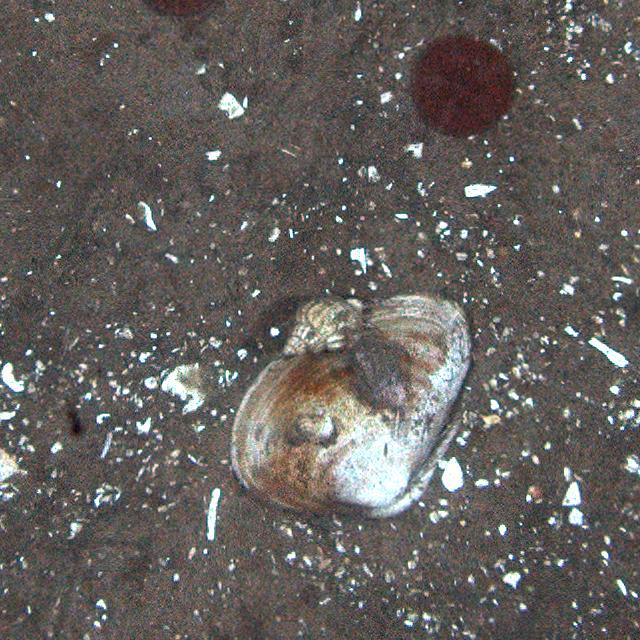whelk: (276, 289, 370, 359)
